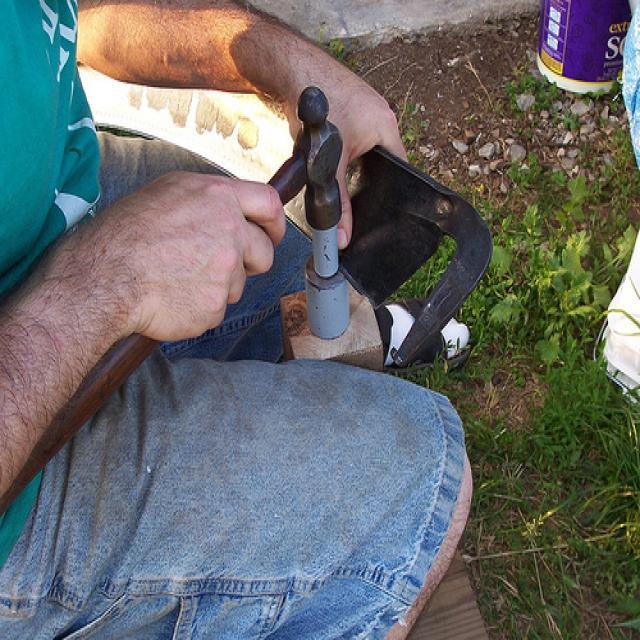hammer: (78, 75, 345, 381)
